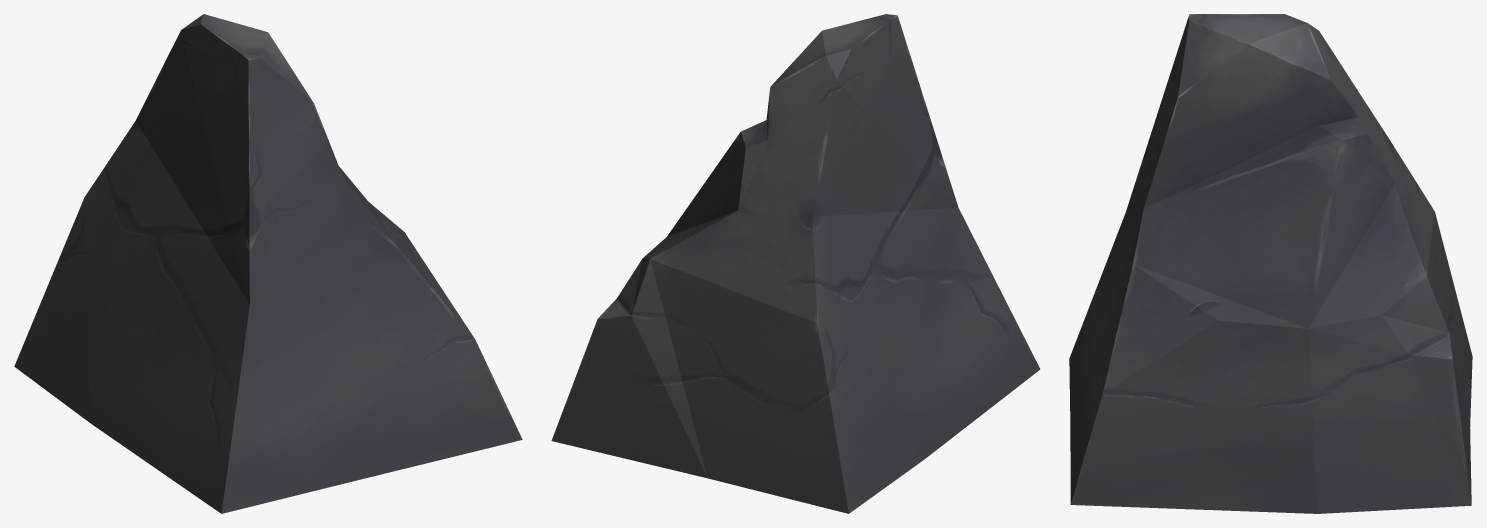
The model's file is rock_2.fbx.
3 renders of one model, left to right at view 1: azimuth 30°, elevation 25°; view 2: azimuth 150°, elevation 25°; view 3: azimuth 270°, elevation 25°, orthographic. The views are drawn at different scales.
Visible parts, largest first — view 1: Cube.019; view 2: Cube.019; view 3: Cube.019.
Boxes of the visible parts, left/top/right/bottom form: Cube.019: left=14, top=14, right=522, bottom=513; Cube.019: left=551, top=14, right=1040, bottom=513; Cube.019: left=1069, top=14, right=1472, bottom=513.
Size of the model in its own units: 595 by 679 by 641.
